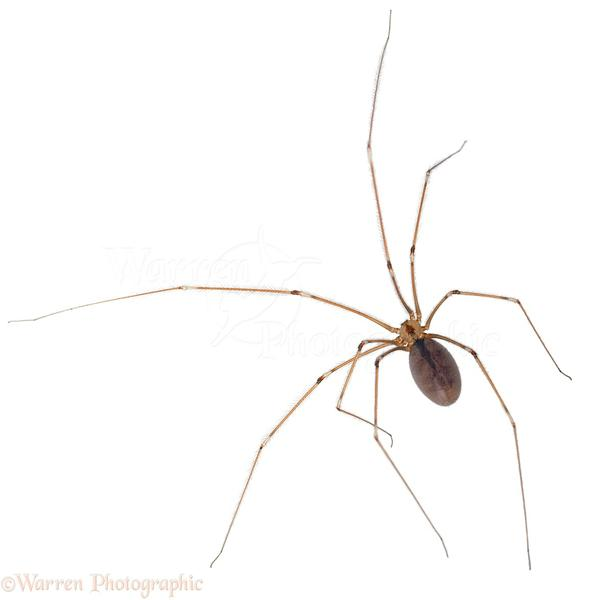Daddy Long Legs Spider: (26, 9, 567, 562)
